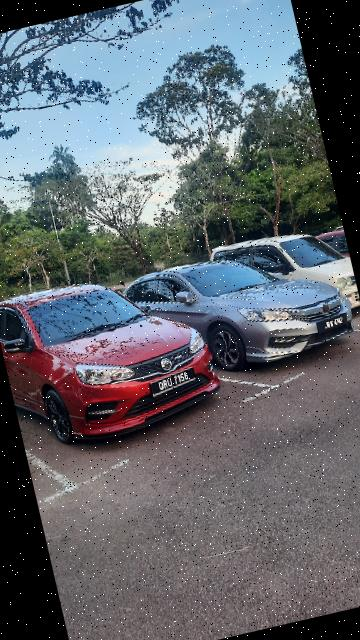License_Plate: (149, 366, 203, 396), (314, 313, 351, 335)
car: (1, 255, 232, 472), (128, 221, 360, 394)
